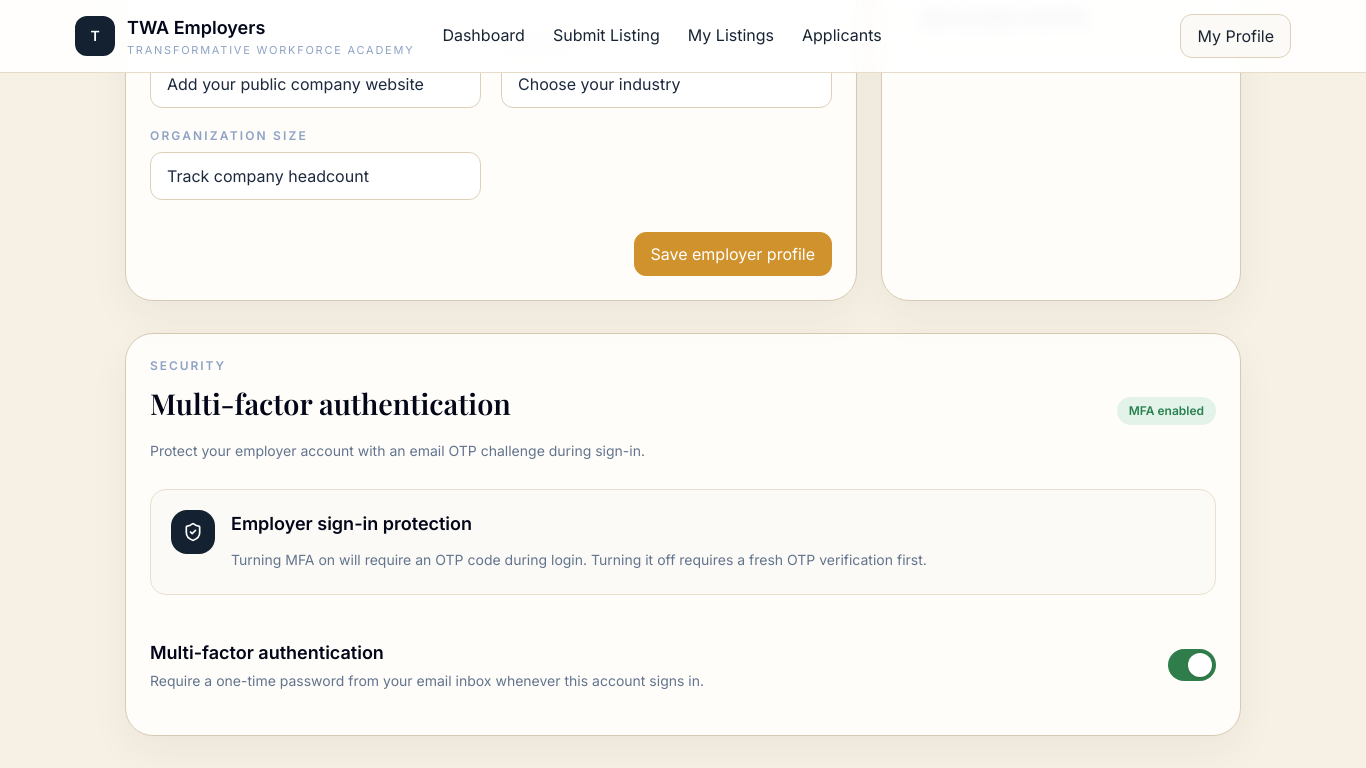
Scenario: employer MFA disable requires confirmation before sending OTP
(page scrolled)
Click the switch named "multi-factor authentication".
click(1192, 665)  # box [1168,649,1216,681]
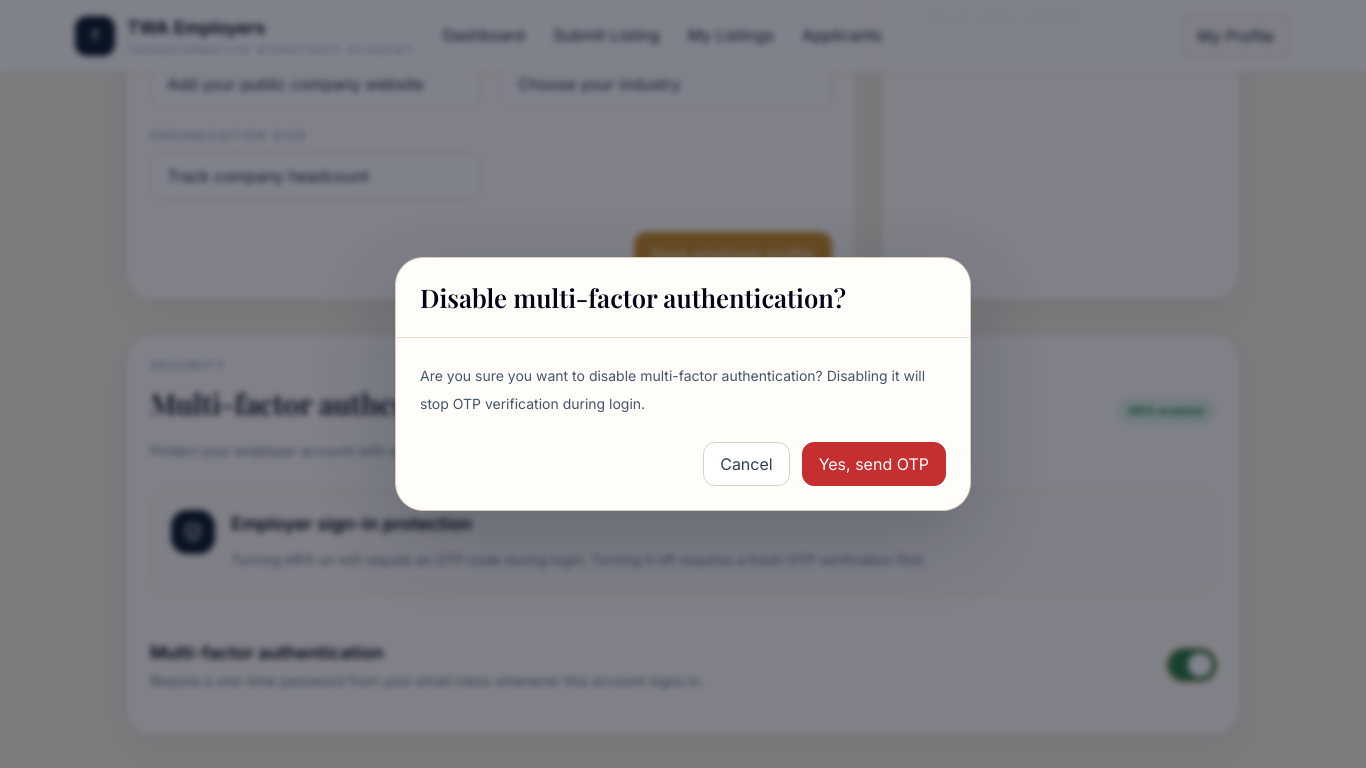
Expected: the text "Are you sure you want to disable multi-factor authentication" is shown, [420,367,925,412]
Click the button "Yes, send OTP".
click(874, 464)  # box [802,442,946,486]
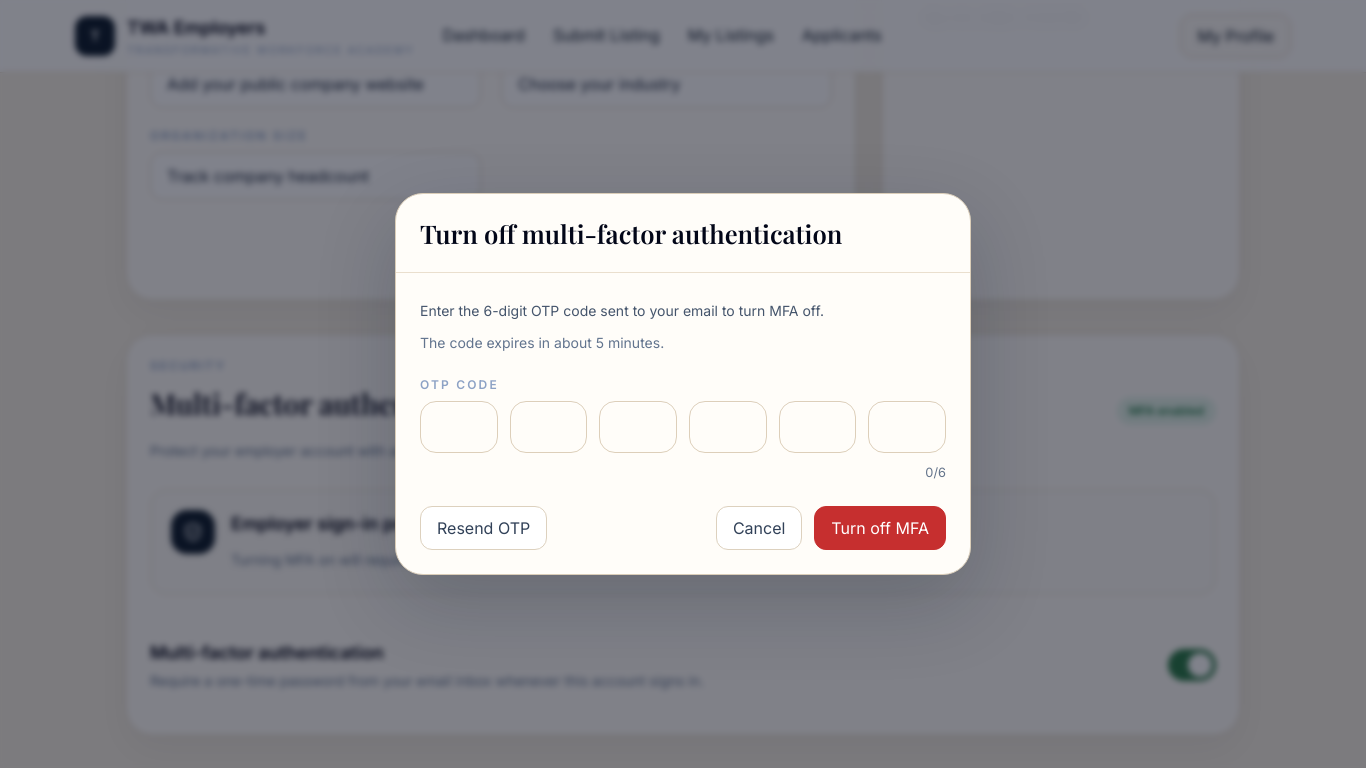
Expected: the text "Enter the 6-digit OTP code sent to your email" is shown, [420,302,824,319]
Expected: the number of elements with test id "otp-digit-box" is 6, [420,401,498,453]; [510,401,587,453]; [599,401,677,453]; [689,401,767,453]; [779,401,856,453]; [868,401,946,453]
Type "123456" into the field named "otp code".
click(929, 472); type("123456")  # box [420,401,946,482]
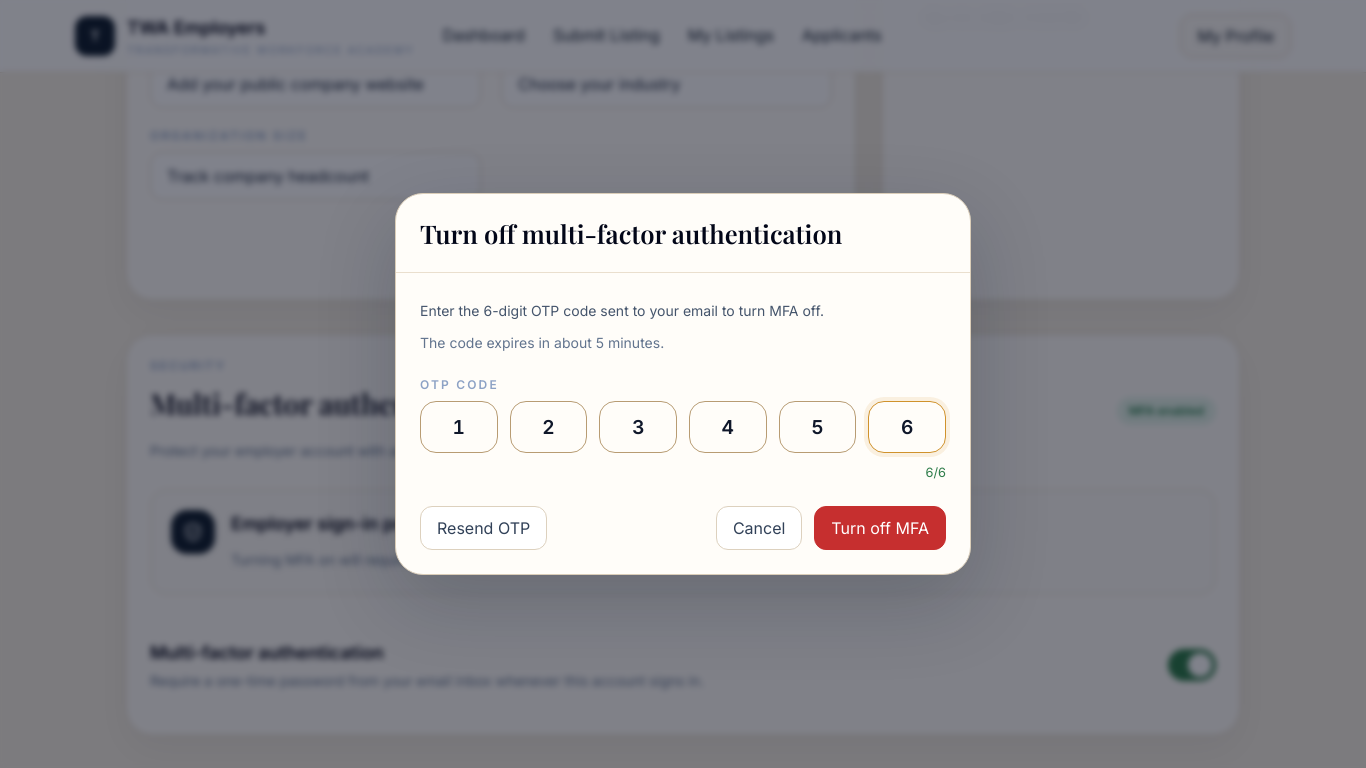
Click the button "Turn off MFA".
click(880, 528)  # box [814,506,946,550]
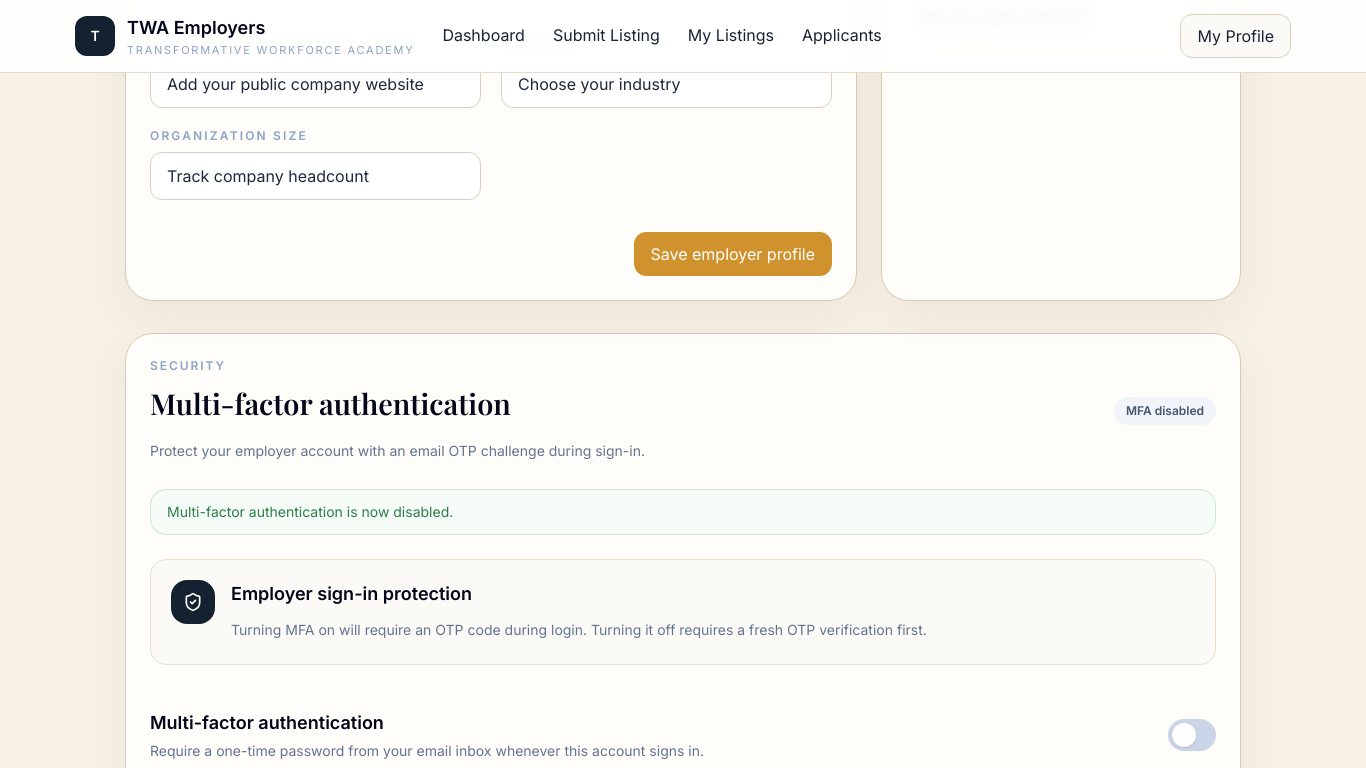
Expected: the text "Multi-factor authentication is now disabled." is shown, [150,489,1216,535]
